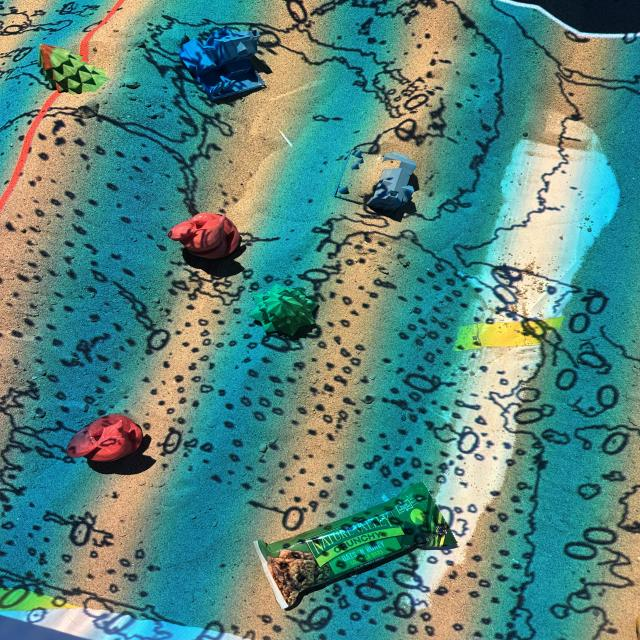fire: (67, 412, 145, 464), (168, 211, 241, 260)
house: (178, 25, 267, 103), (330, 148, 420, 215)
tree: (36, 42, 110, 96), (248, 287, 321, 336)
